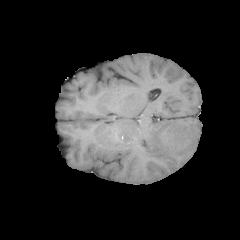glioma: (141, 121, 195, 165)
